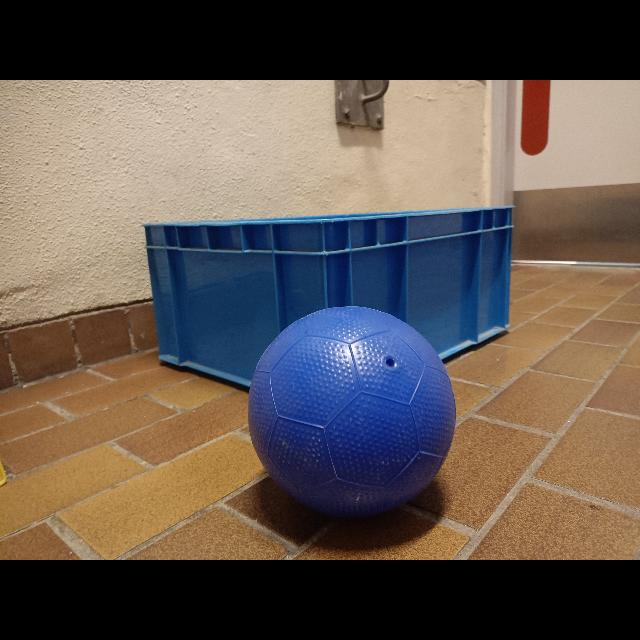B: (246, 305, 450, 507)
